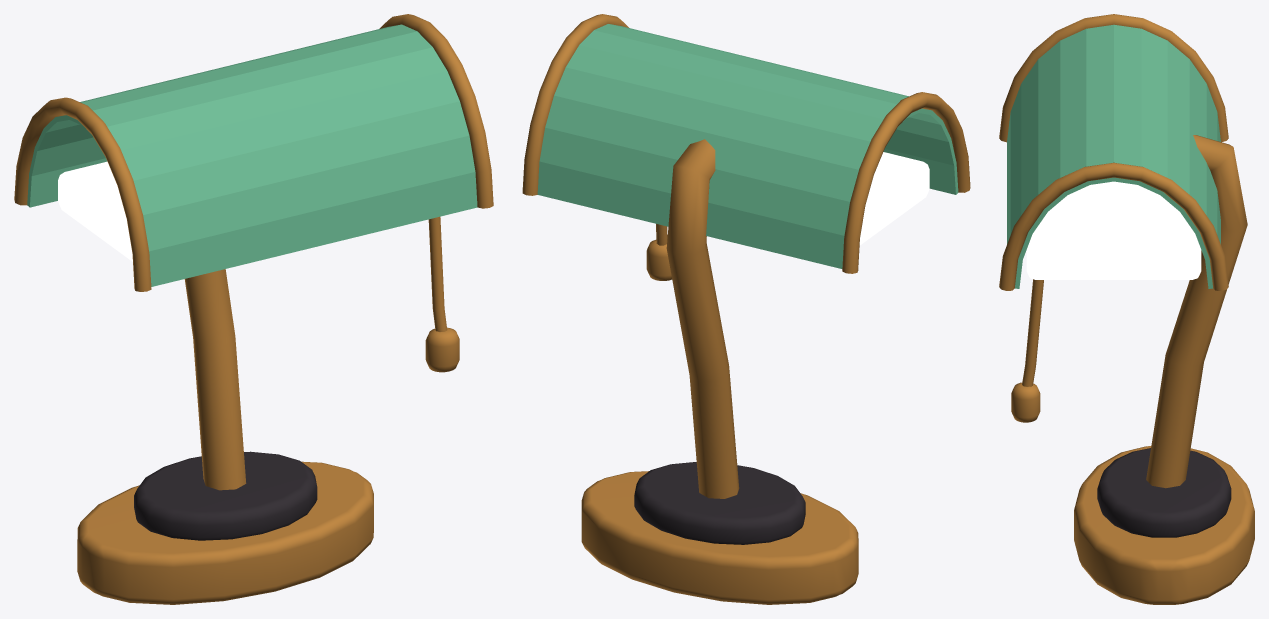
File: living-study-lamp.glb
3 views of the same model, side by side, from view 1: azimuth 30°, elevation 25°; view 2: azimuth 150°, elevation 25°; view 3: azimuth 270°, elevation 25° (orthographic). The views are drawn at different scales.
Visible parts, largest first — view 1: living_study_lamp_pivot_Mesh; view 2: living_study_lamp_pivot_Mesh; view 3: living_study_lamp_pivot_Mesh.
Boxes of the visible parts, x1,y1,x2,y2 form: living_study_lamp_pivot_Mesh: [14, 14, 493, 604]; living_study_lamp_pivot_Mesh: [522, 14, 970, 604]; living_study_lamp_pivot_Mesh: [999, 14, 1254, 604].
Size of the model in its own units: 0.467 by 0.644 by 0.3249.
